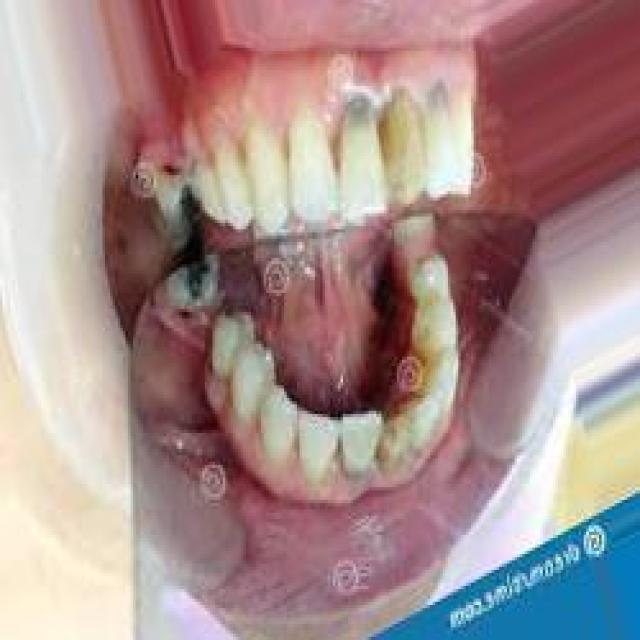caries: (154, 178, 207, 244), (176, 250, 224, 310), (378, 403, 418, 472)
